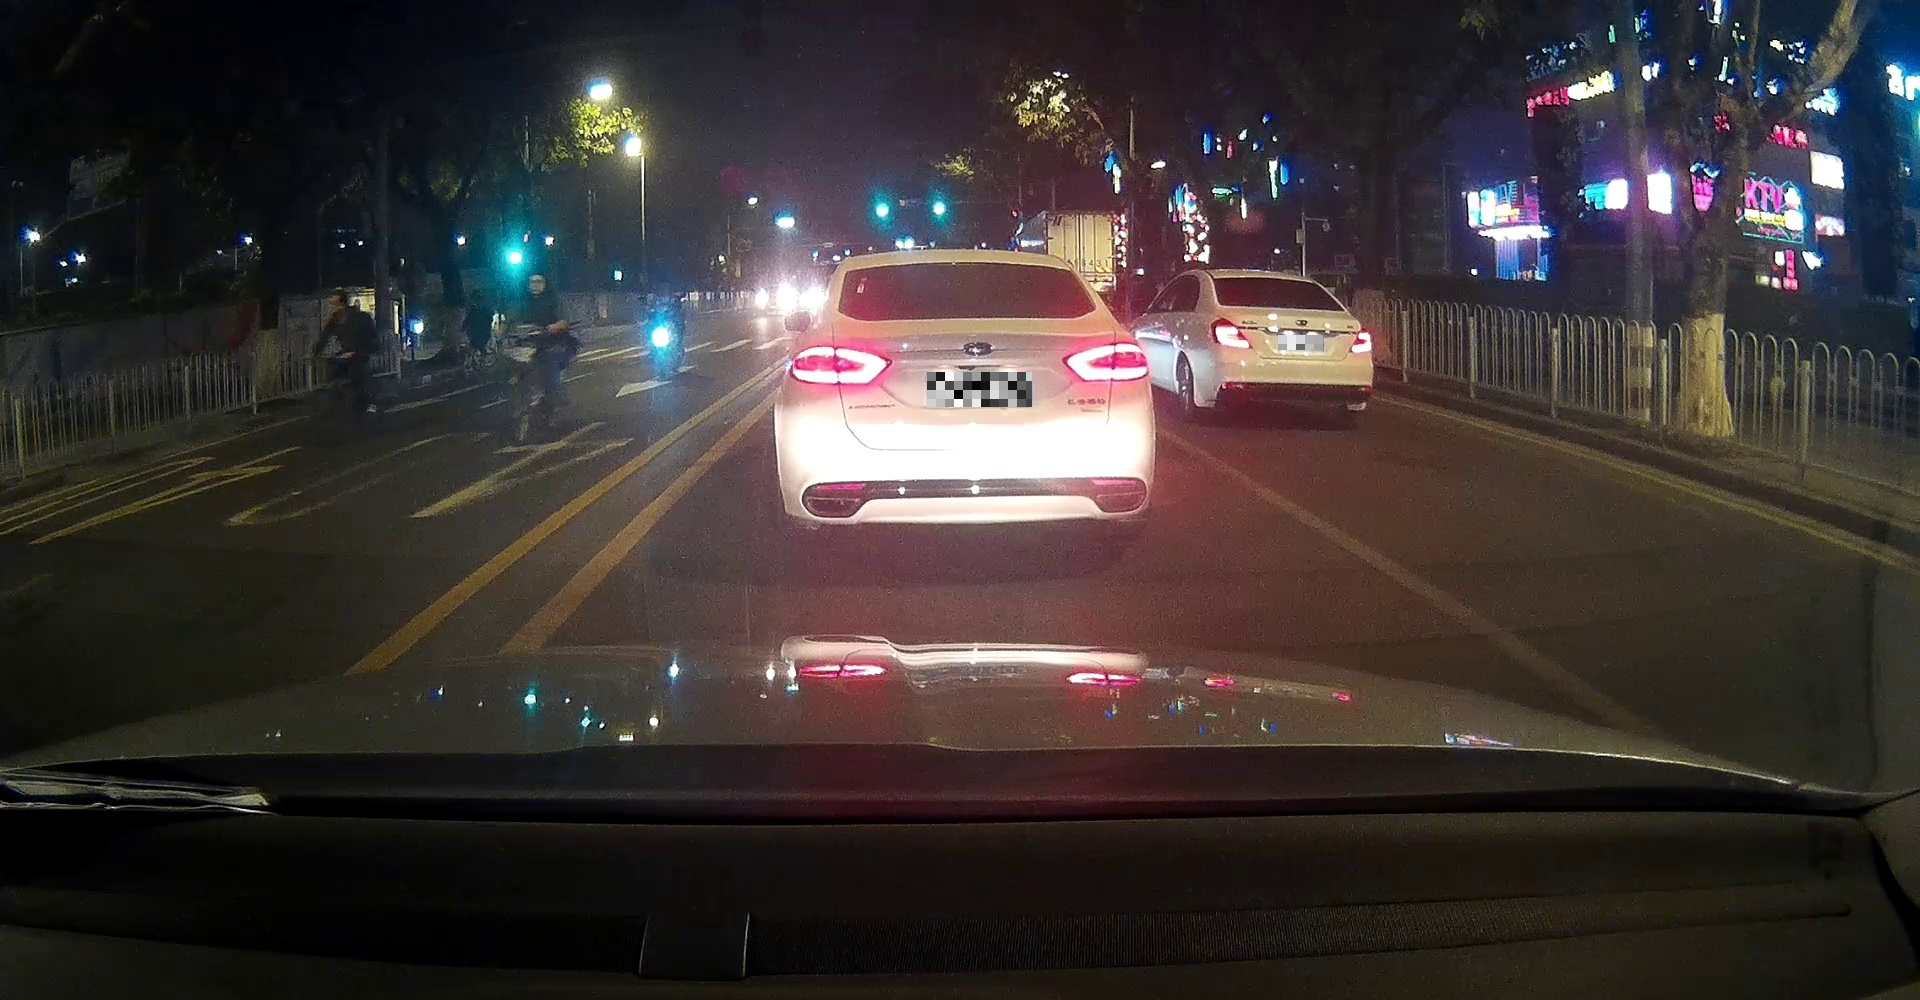L_light: (789, 345, 890, 385), (1210, 317, 1252, 349)
R_light: (1063, 341, 1149, 381), (1349, 327, 1371, 352)
T_light: (941, 261, 983, 270), (1258, 278, 1280, 284)
night-no: (773, 249, 1154, 536), (1209, 272, 1374, 423)
plate_1: (927, 372, 1032, 407)
plate_2: (1277, 335, 1323, 350)
